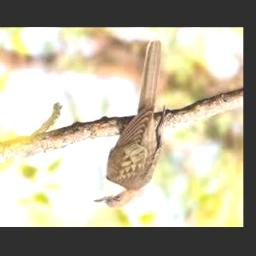Cuckoo: (93, 39, 164, 209)
